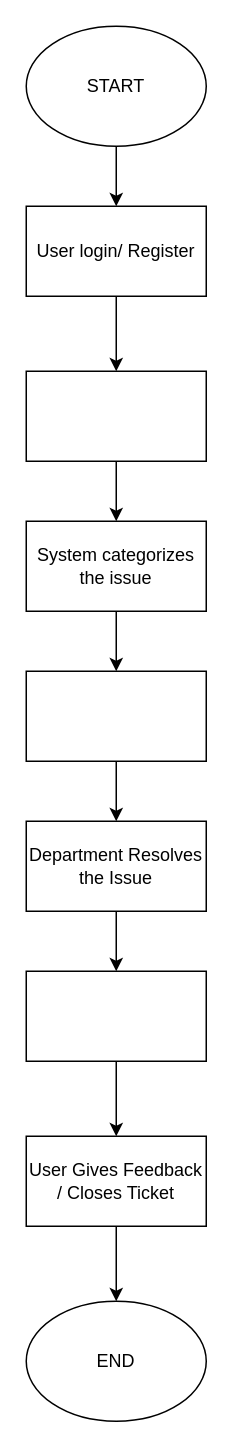
This 233x1448 diagram has some shape labels left out. Each missing label, with the centre of its shape:
Admin Reviews & Assigns to Department: the point at 115,715
Submit grievance or feedback: the point at 115,415
User Receives Notification: the point at 115,1015
